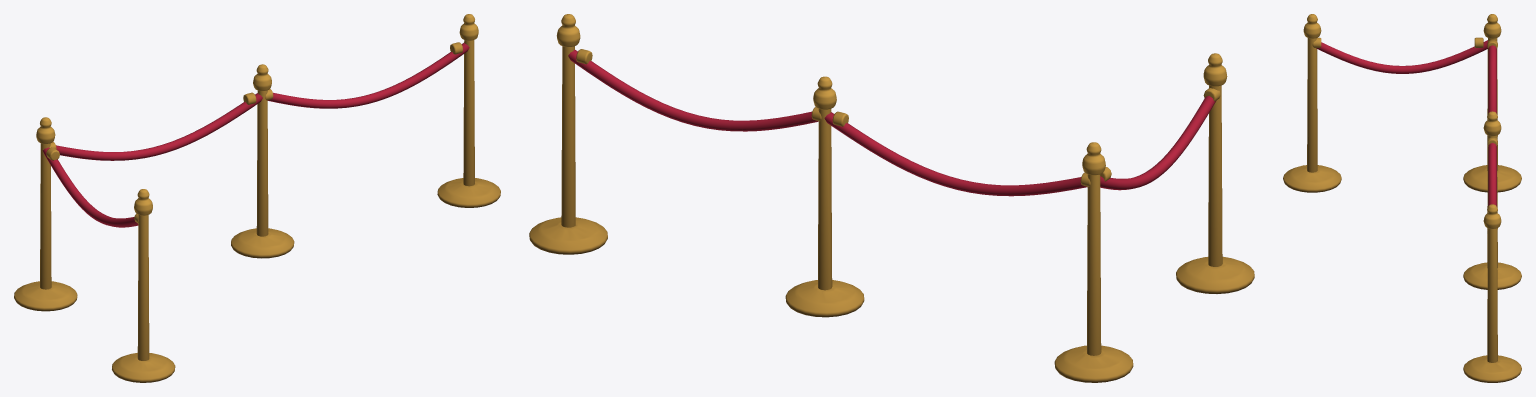
The model's file is lg_velvet_ropes.glb.
3 views of the same model, side by side, from view 1: azimuth 30°, elevation 25°; view 2: azimuth 150°, elevation 25°; view 3: azimuth 270°, elevation 25° (orthographic). The views are drawn at different scales.
Parts seen in each view (by area): view 1: merged_toon_C8963C, merged_toon_B0203A; view 2: merged_toon_C8963C, merged_toon_B0203A; view 3: merged_toon_C8963C, merged_toon_B0203A.
Boxes of the visible parts, box(x1,y1,x2,y2) form: merged_toon_C8963C: box(14, 14, 500, 382); merged_toon_B0203A: box(42, 43, 469, 227); merged_toon_C8963C: box(529, 14, 1254, 382); merged_toon_B0203A: box(568, 50, 1215, 196); merged_toon_C8963C: box(1283, 14, 1521, 382); merged_toon_B0203A: box(1316, 40, 1496, 206).
Size of the model in its own units: 2.82 by 1.02 by 1.33.
